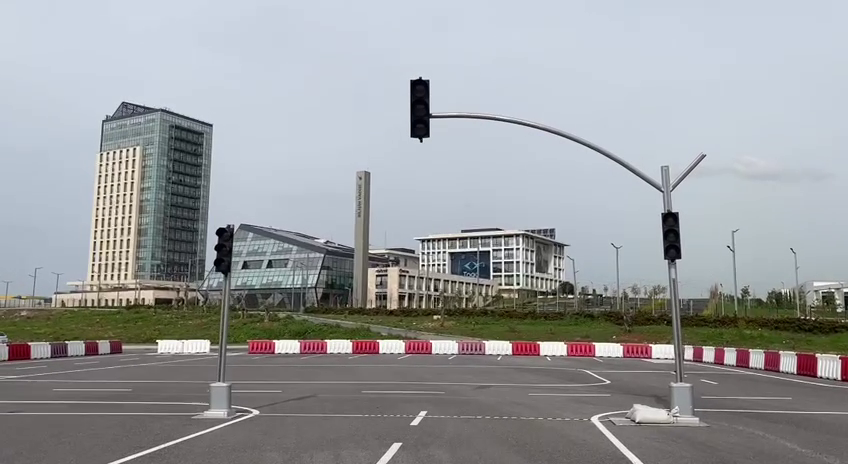trafficLight: (405, 71, 435, 145), (657, 206, 687, 266), (212, 219, 237, 280)
